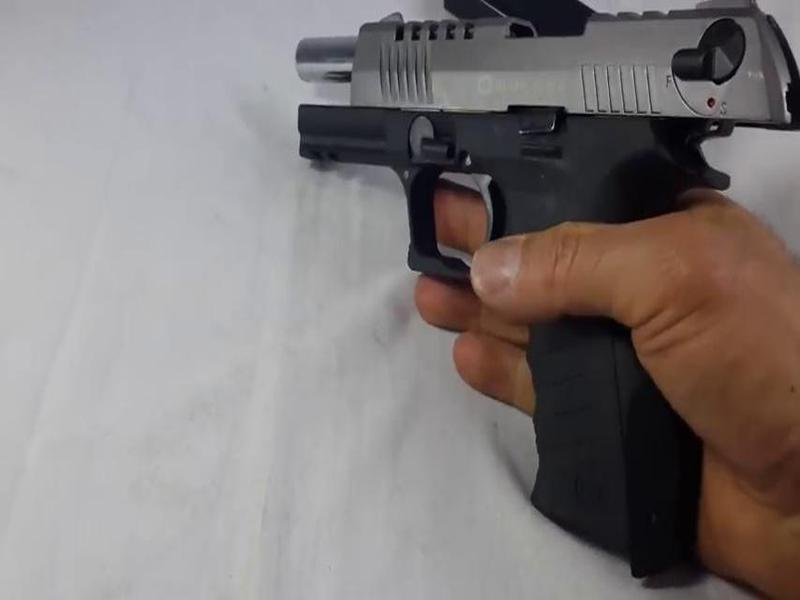Pistola: (296, 3, 798, 547)
